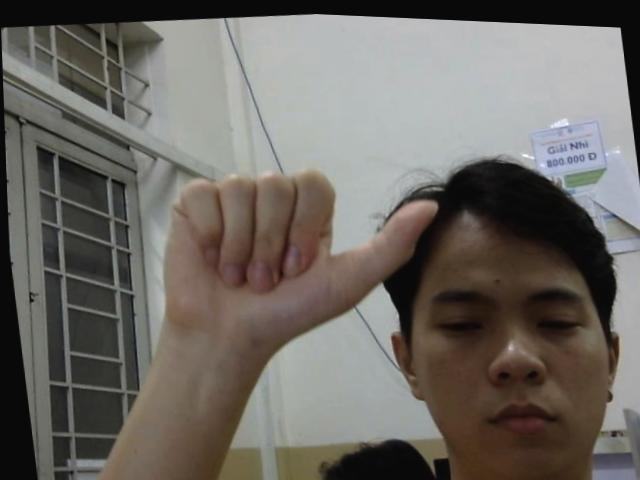A: (146, 137, 449, 351)
